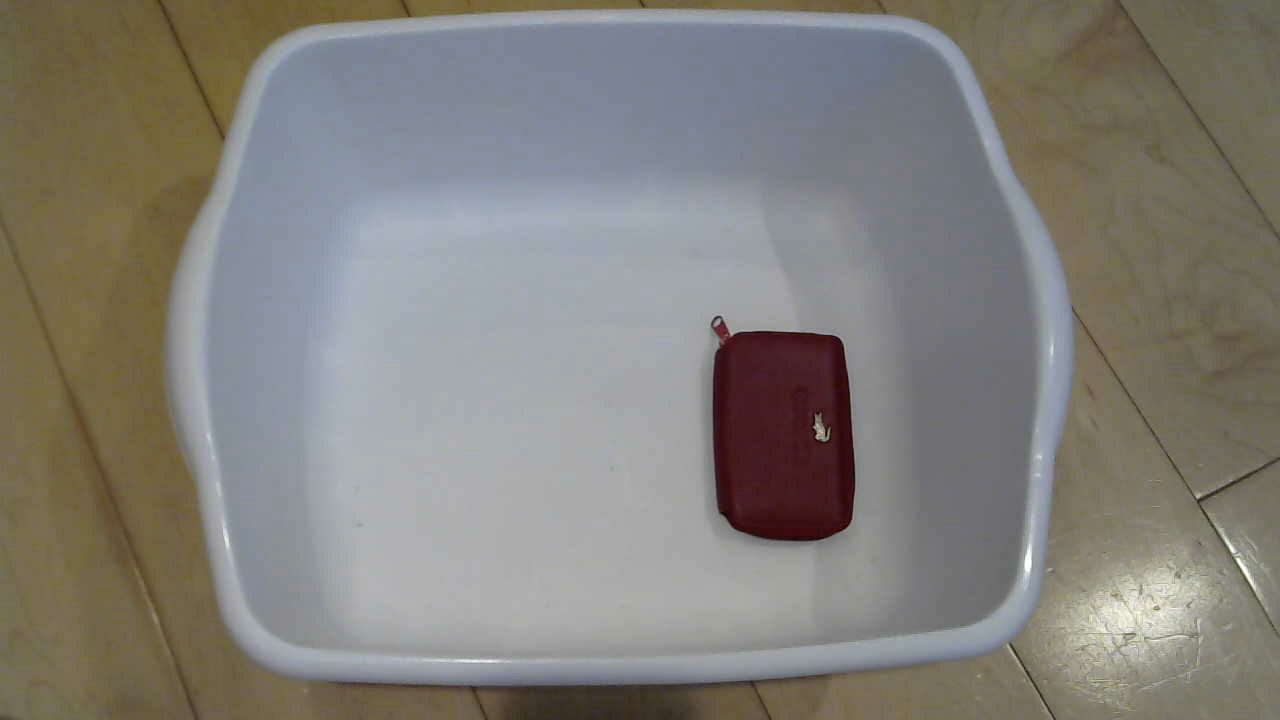wallet: (697, 317, 867, 551)
